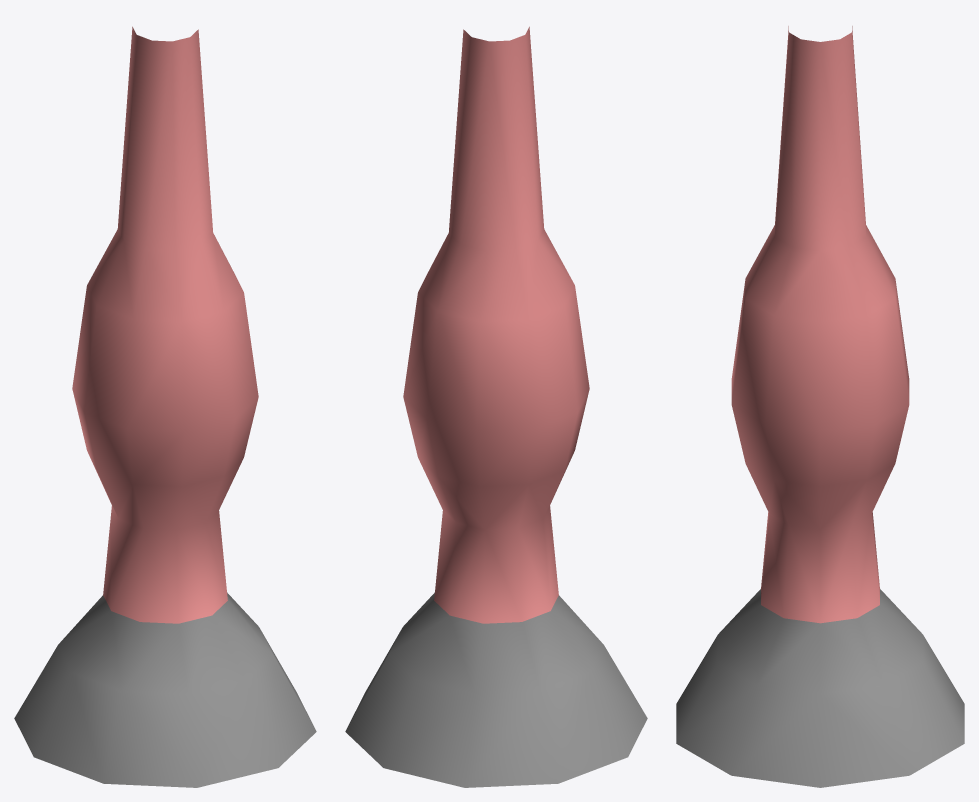
File: mush_piece_05.gltf
3 renders of one model, left to right at view 1: azimuth 30°, elevation 25°; view 2: azimuth 150°, elevation 25°; view 3: azimuth 270°, elevation 25°, orthographic.
Parts seen in each view (by area): view 1: mush_piece_05; view 2: mush_piece_05; view 3: mush_piece_05.
Boxes of the visible parts, x1,y1,x2,y2 form: mush_piece_05: (14,26,316,787); mush_piece_05: (345,26,647,787); mush_piece_05: (676,26,964,787).
Bounding box in the file's own units: 1.04 × 2.62 × 0.985.
